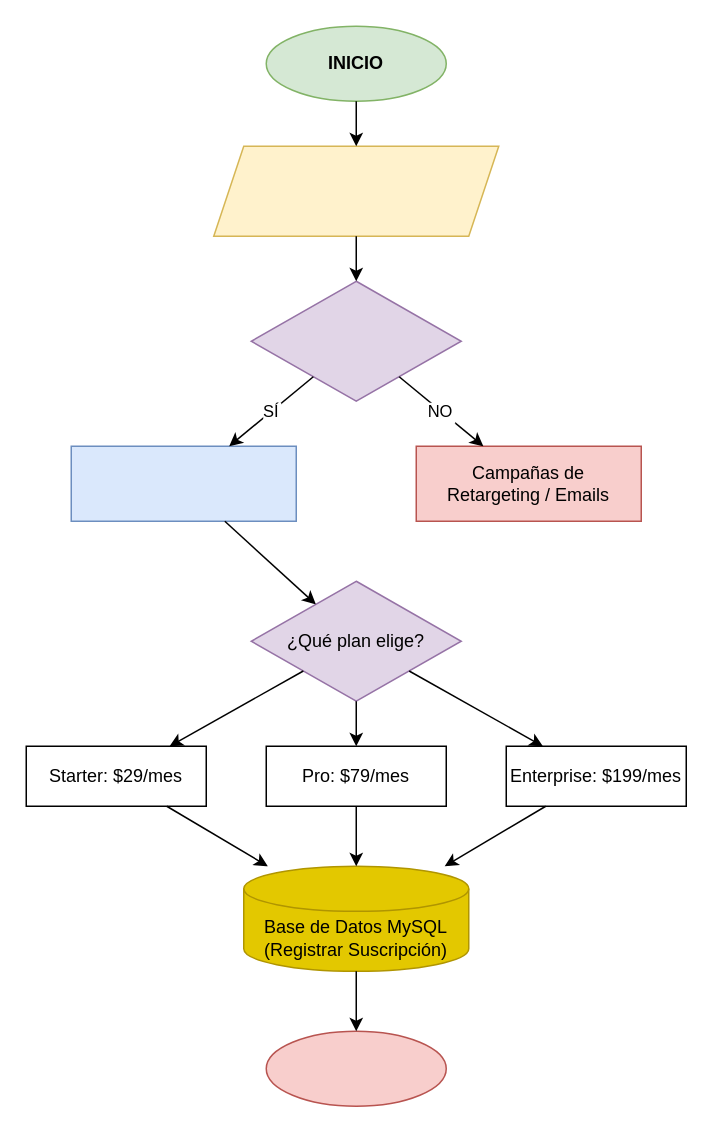
Some shapes in this 713 by 1133 pixel diagram are drawn without their labels. The shapes that lost their labels are listed below. From the top down, each one's centre as x and y in pixels, then its label:
At point 355,190: "Estrategia de Marketing (LinkedIn, Ads, Contenido)".
At point 355,340: "¿Acepta Prueba Gratis?".
At point 183,483: "Crear Cuenta Free Trial (14 Días)".
At point 355,1068: "FIN".
